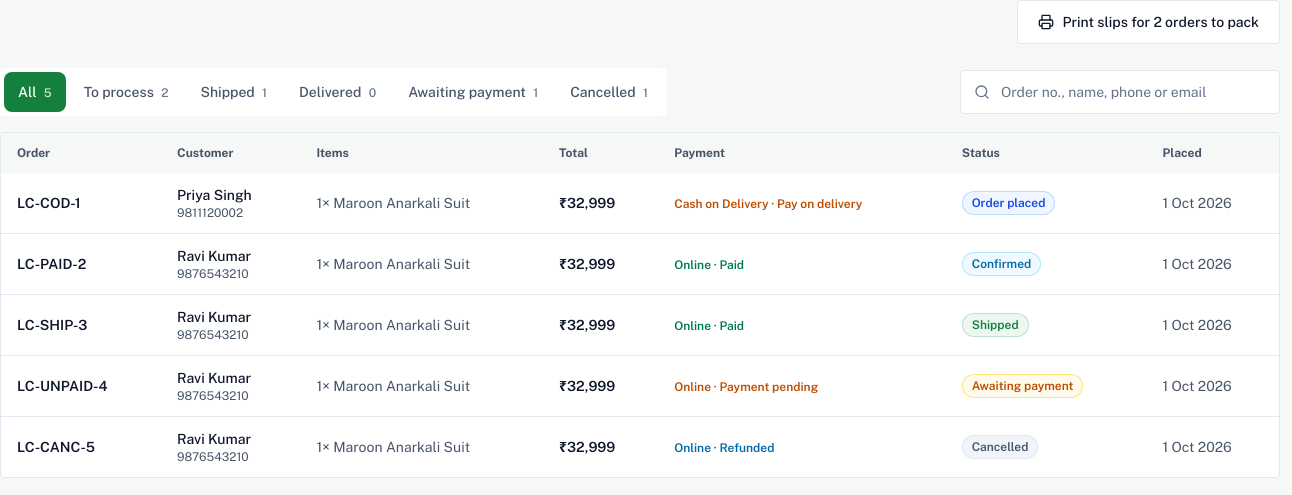
<OrdersAdmin /> › searches by order number, name or phone
In the field named "Search orders": coordinates (1120, 92) [960, 70, 1280, 114], type "priya"
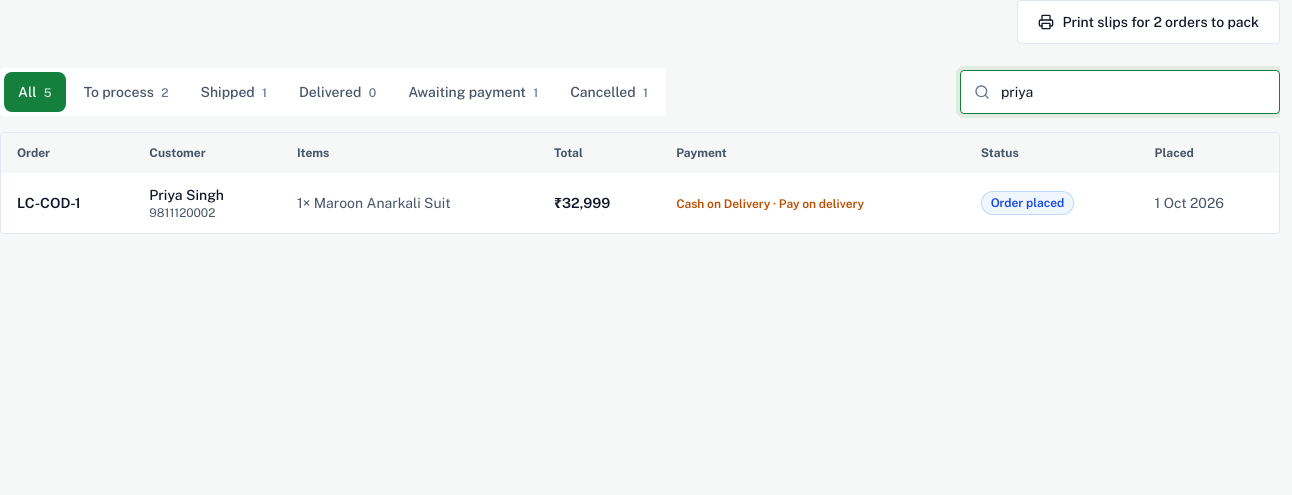
Check: the text "LC-COD-1" is shown, box [1, 173, 133, 233]
Check: the text "LC-PAID-2" is gone
